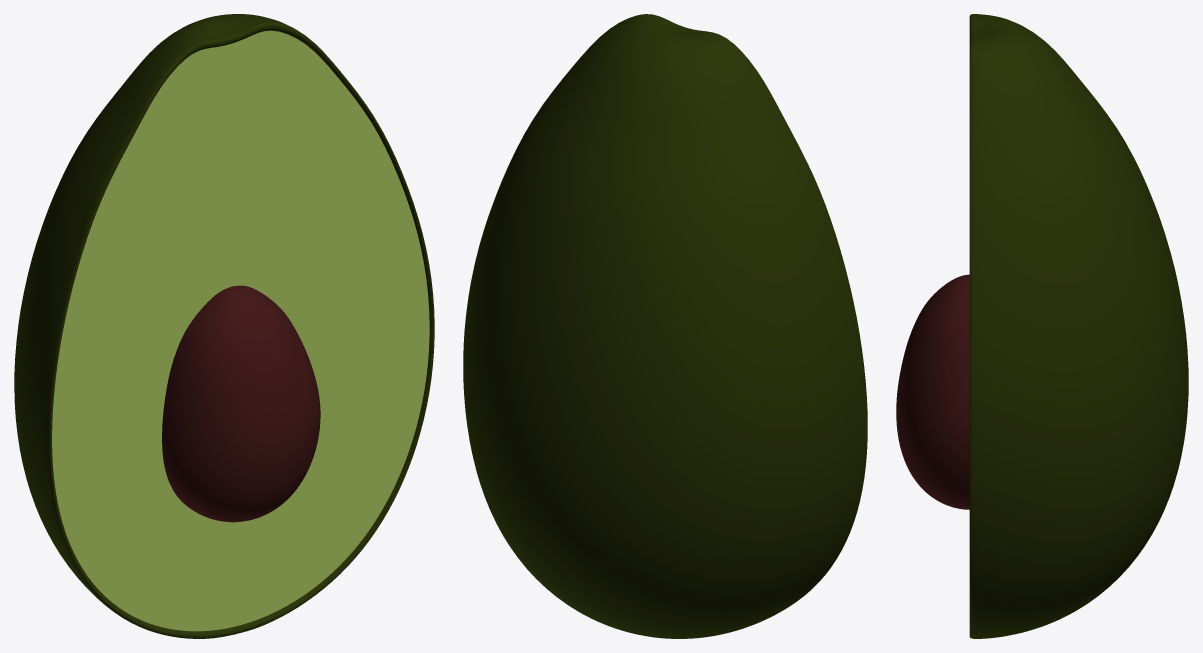
Rendered from avocado.fbx.
3 views of the same model, side by side, from view 1: azimuth 30°, elevation 25°; view 2: azimuth 150°, elevation 25°; view 3: azimuth 270°, elevation 25° (orthographic). The views are drawn at different scales.
Parts seen in each view (by area): view 1: Sphere.008, Sphere.007, Sphere.009; view 2: Sphere.007; view 3: Sphere.007, Sphere.009.
Part boxes in pixels (x1,y1,x2,y2): Sphere.008: (52,30,429,631); Sphere.007: (14,14,434,638); Sphere.009: (162,285,320,522); Sphere.007: (463,14,867,638); Sphere.007: (969,14,1188,638); Sphere.009: (896,274,969,509).
Size of the model in its own units: 130 by 195 by 87.23.
